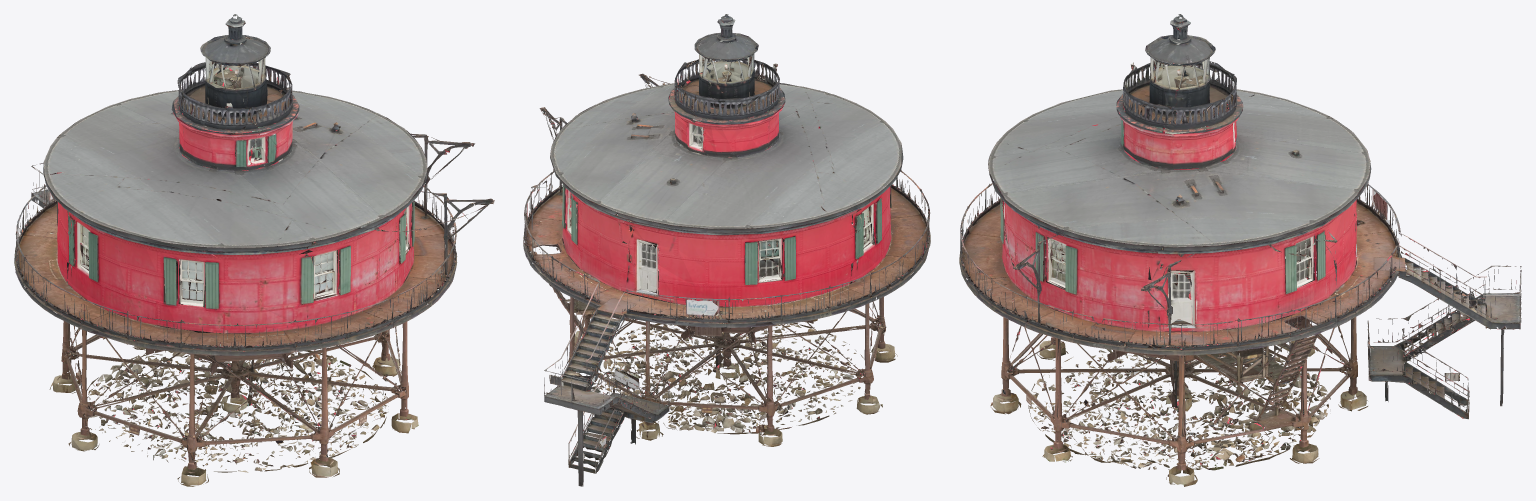
Rendered from lighthouse.glb.
The picture shows the model from 3 angles, left to right: view 1: azimuth 30°, elevation 25°; view 2: azimuth 150°, elevation 25°; view 3: azimuth 270°, elevation 25°; orthographic projection. The views are drawn at different scales.
Visible parts, largest first — view 1: Object_9, Object_2; view 2: Object_9, Object_2; view 3: Object_9, Object_2.
Part boxes in pixels (x1,y1,x2,y2): Object_9: [14, 18, 492, 486]; Object_2: [15, 14, 494, 484]; Object_9: [523, 18, 930, 486]; Object_2: [523, 14, 930, 486]; Object_9: [959, 16, 1521, 486]; Object_2: [959, 14, 1521, 484].
Size of the model in its own units: 16.52 by 15.12 by 19.56.
Materials: 2 (2 with a texture image).
